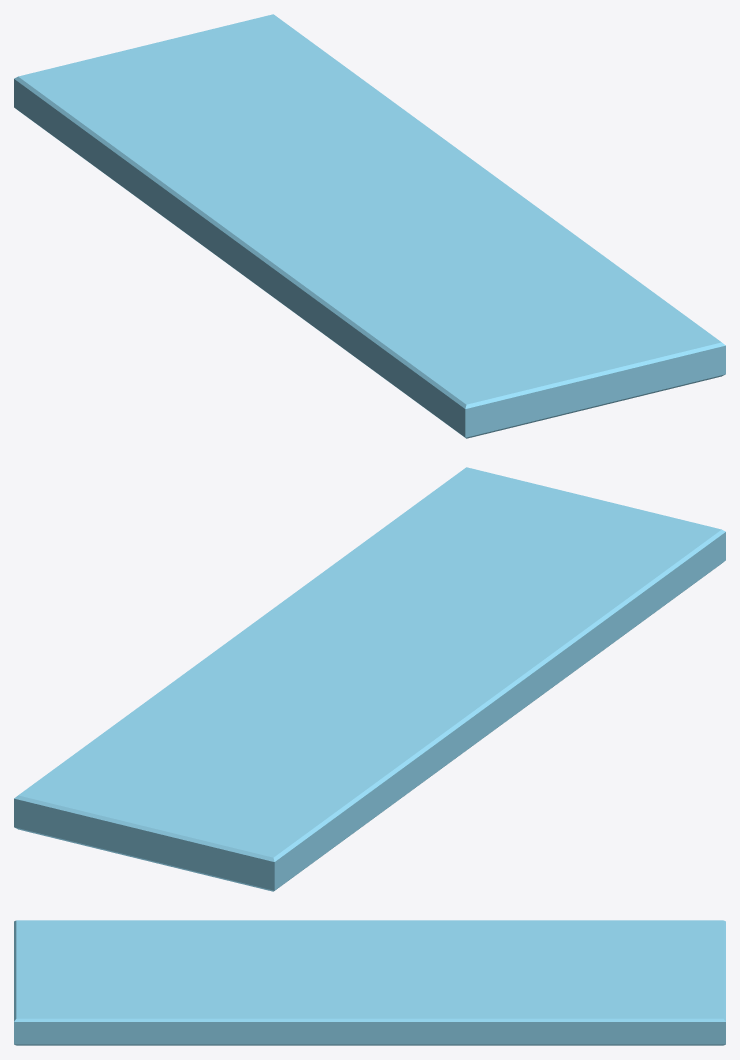
The model's file is Glass_Stuff_01.FBX.
3 views of the same model, one above another, from view 1: azimuth 30°, elevation 25°; view 2: azimuth 150°, elevation 25°; view 3: azimuth 270°, elevation 25° (orthographic). The views are drawn at different scales.
Parts seen in each view (by area): view 1: Glass_Stuff_01; view 2: Glass_Stuff_01; view 3: Glass_Stuff_01.
Part boxes in pixels (box(x1,y1,x2,y2)): Glass_Stuff_01: box(14, 14, 725, 438); Glass_Stuff_01: box(14, 467, 725, 891); Glass_Stuff_01: box(14, 920, 725, 1045).
Bounding box in the file's own units: 2 × 0.25 × 6.
